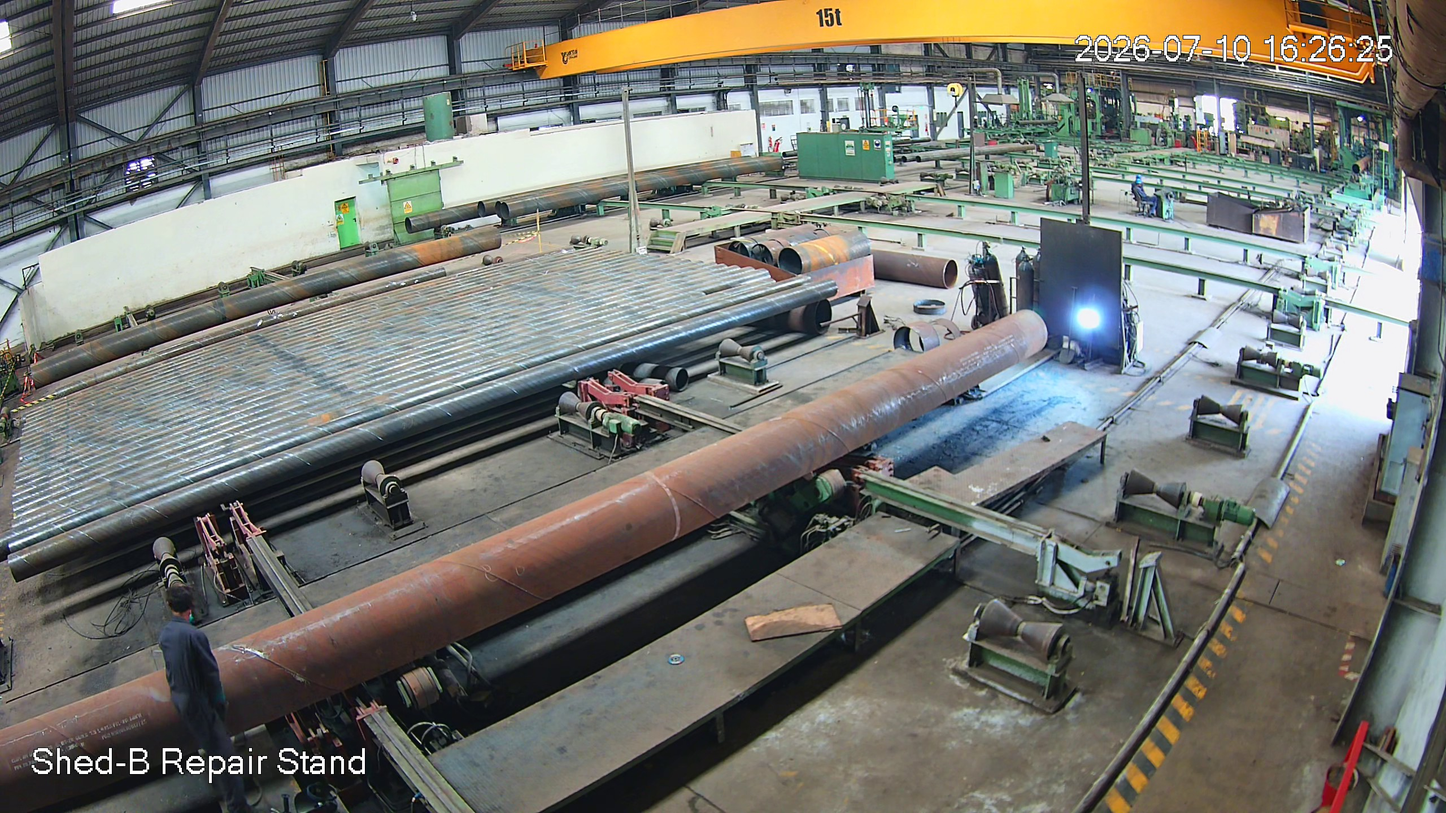Person: (155, 580, 249, 793)
